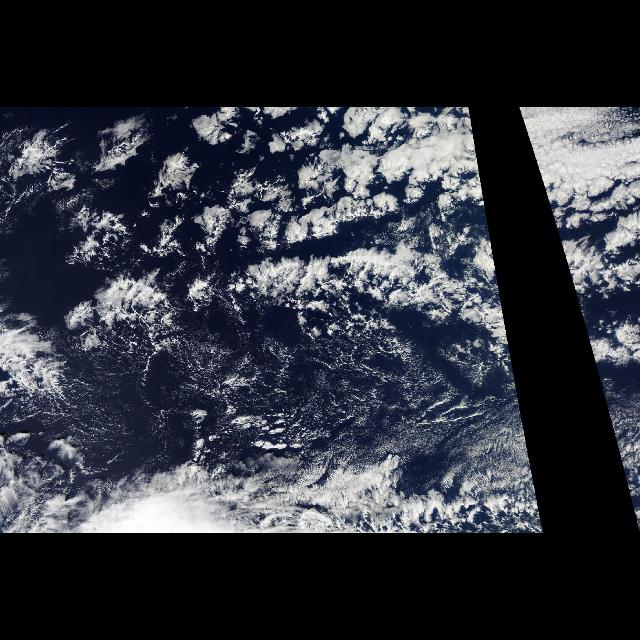Fish: (57, 210, 517, 378), (558, 240, 640, 378)
Flower: (2, 107, 440, 339)
Gravel: (19, 319, 258, 429)
Sugar: (114, 346, 542, 520), (592, 358, 632, 500)
